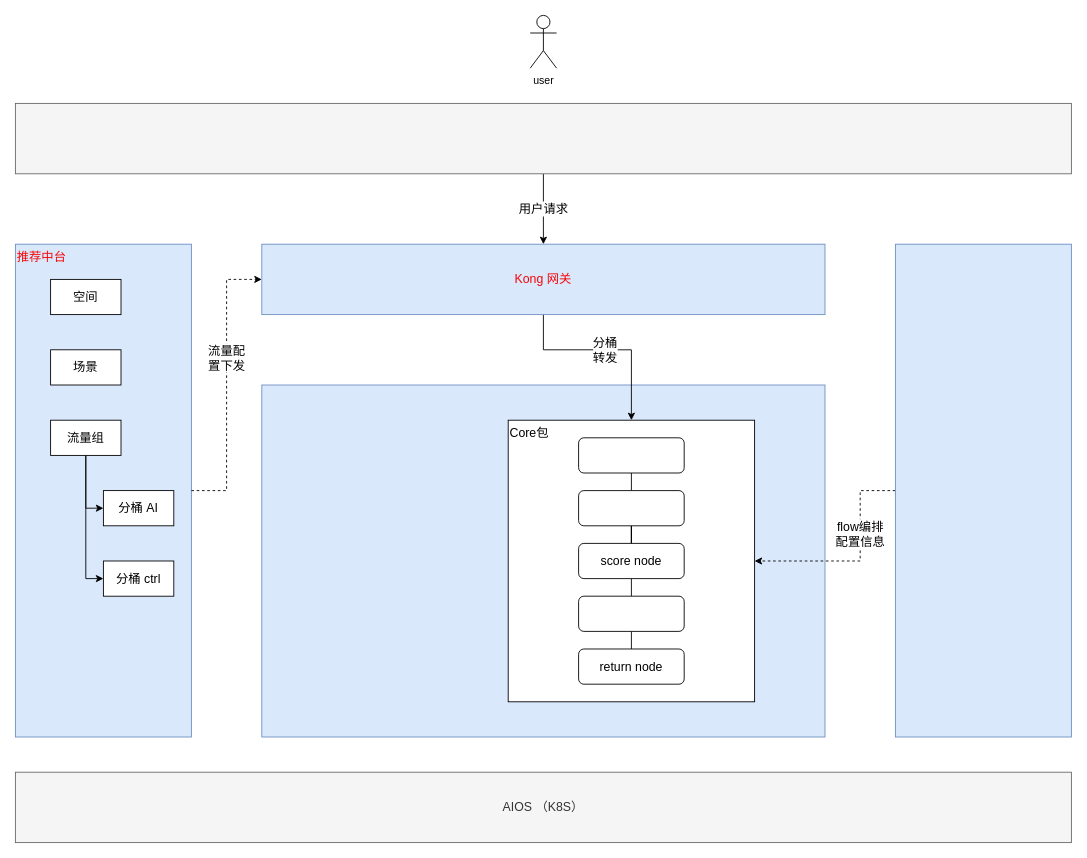
Image size: 1087x858. Some labels were removed from this diagram. Each missing label, with the box of its shape:
Apollo 配置 大Json（节点配置、 节点Function配置、 路由编排配置）: (895, 243, 1071, 737)
FlowEngin: (261, 384, 825, 737)
init node: (578, 437, 684, 473)
rank node: (578, 595, 684, 631)
recall node: (578, 490, 684, 526)
业务系统: (15, 103, 1071, 174)
